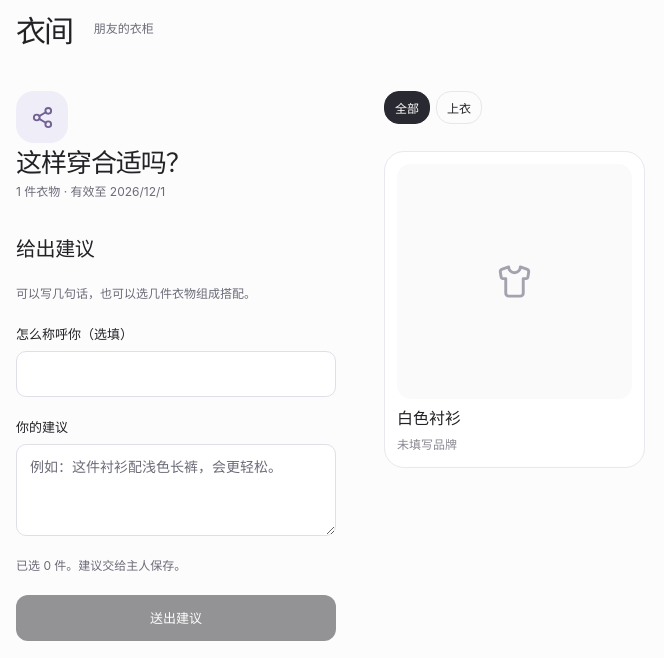
Test: guest replies use snapshot IDs and a stable request ID, with no private state
Check: the heading "这样穿合适吗？" is shown, box [16,147,191,178]
Click the button "白色衬衫 未填写品牌": (515, 310) [384,151,645,468]
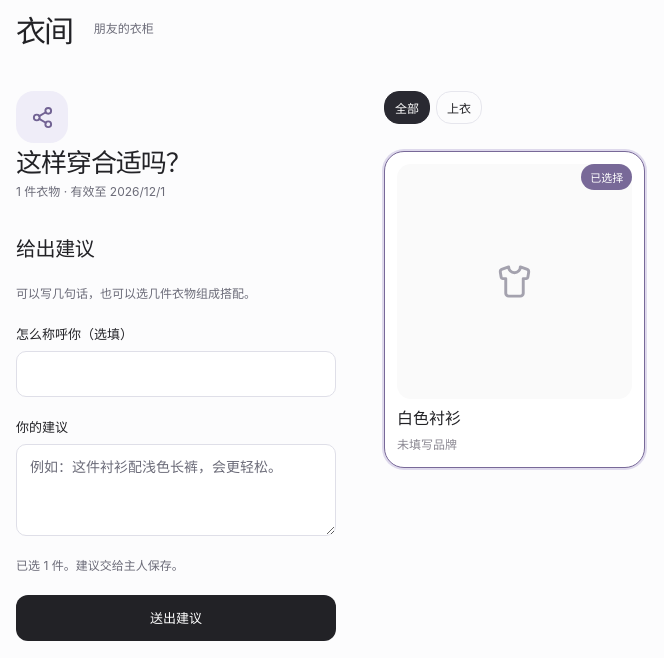
In the text box labelled "你的建议": (176, 490) [16,444,336,536], type "可以配浅色长裤"
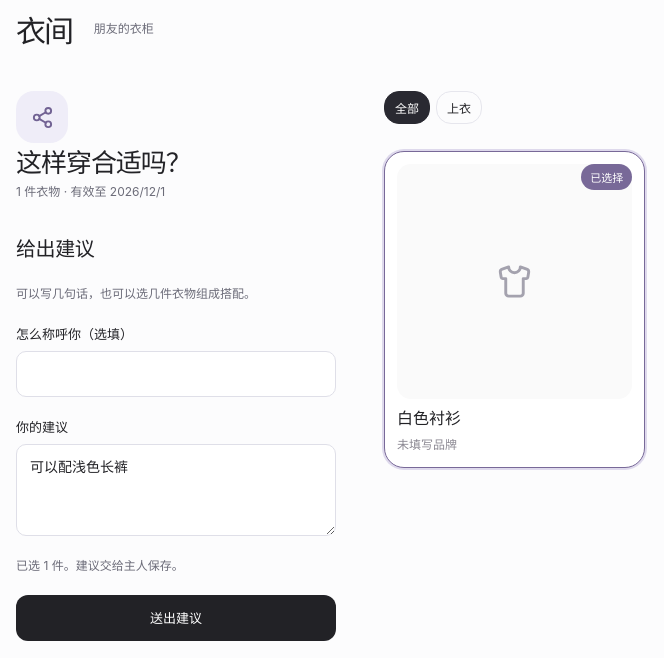
Click the button "送出建议": (176, 618) [16,595,336,641]
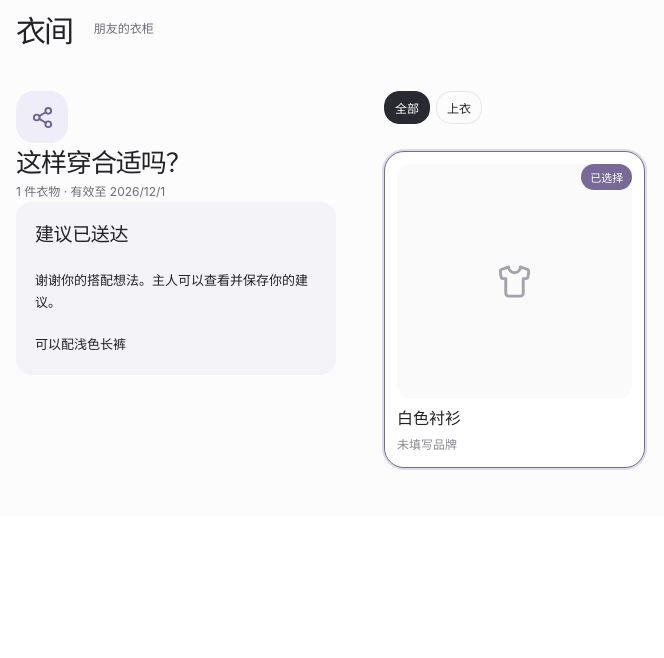
Check: the heading "建议已送达" is shown, box [35,223,128,246]
